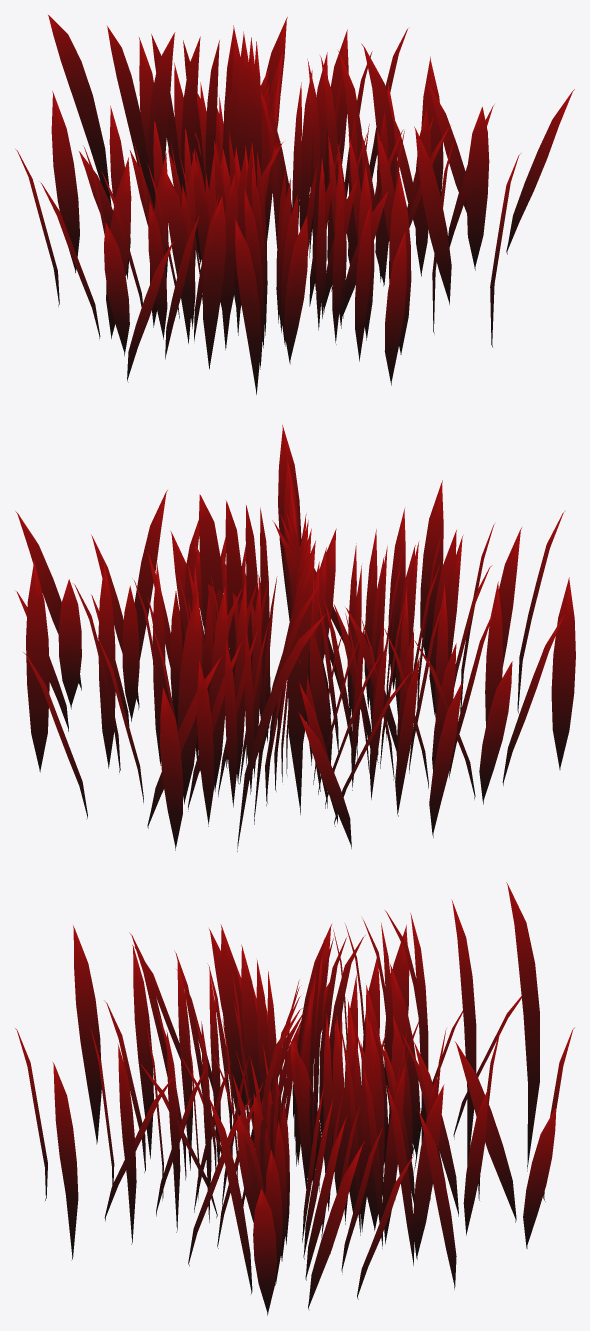
Rendered from Grass_Unidade2.fbx.
3 renders of one model, top to bottom at view 1: azimuth 30°, elevation 25°; view 2: azimuth 150°, elevation 25°; view 3: azimuth 270°, elevation 25°, orthographic. The views are drawn at different scales.
Visible parts, largest first — view 1: Grass; view 2: Grass; view 3: Grass.
Part boxes in pixels (bbox=[...]): Grass: bbox=[15, 15, 574, 394]; Grass: bbox=[15, 425, 575, 851]; Grass: bbox=[15, 882, 574, 1315].
Bounding box in the file's own units: 142 × 67.53 × 130.
